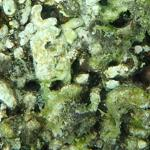dead: (2, 1, 145, 147)
